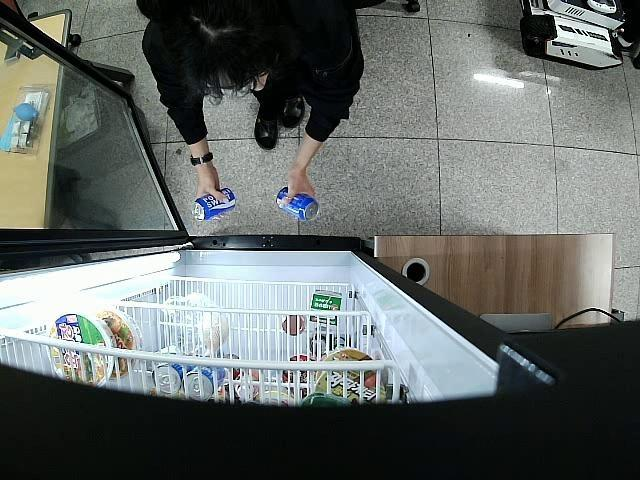13_pocariSweat: (275, 186, 318, 222), (192, 189, 237, 220)
